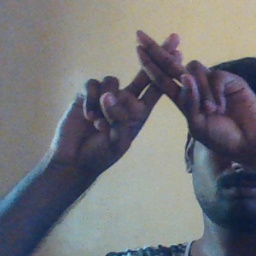F: (99, 19, 218, 132)
